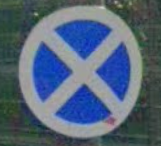oprirea_interzisa: (16, 3, 142, 138)
